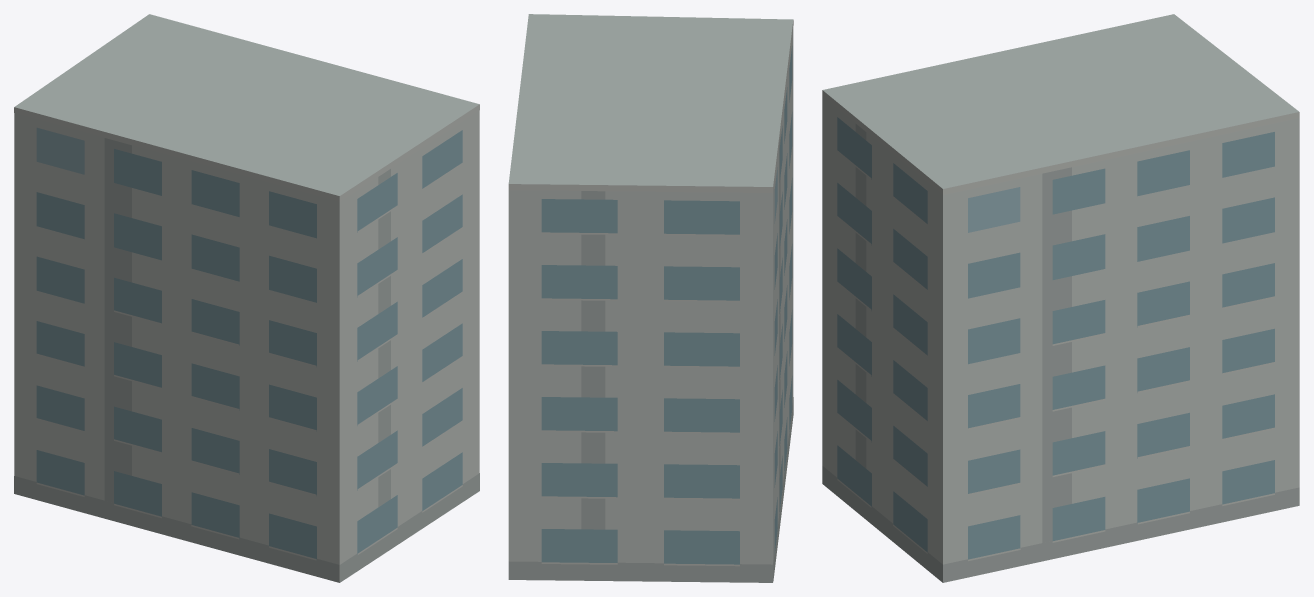
The model's file is survey-upis-32885994.glb.
3 renders of one model, left to right at view 1: azimuth 30°, elevation 25°; view 2: azimuth 150°, elevation 25°; view 3: azimuth 270°, elevation 25°, orthographic. The views are drawn at different scales.
Visible parts, largest first — view 1: survey-upis-32885994.tmp; view 2: survey-upis-32885994.tmp; view 3: survey-upis-32885994.tmp.
Boxes of the visible parts, x1,y1,x2,y2 form: survey-upis-32885994.tmp: (14,14,479,582); survey-upis-32885994.tmp: (508,14,793,582); survey-upis-32885994.tmp: (822,14,1299,582).
Size of the model in its own units: 14.97 by 15.7 by 17.25.
